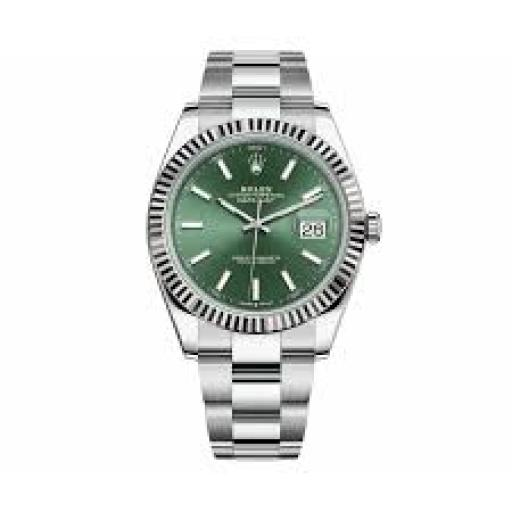KolSaati: (134, 30, 402, 476)
